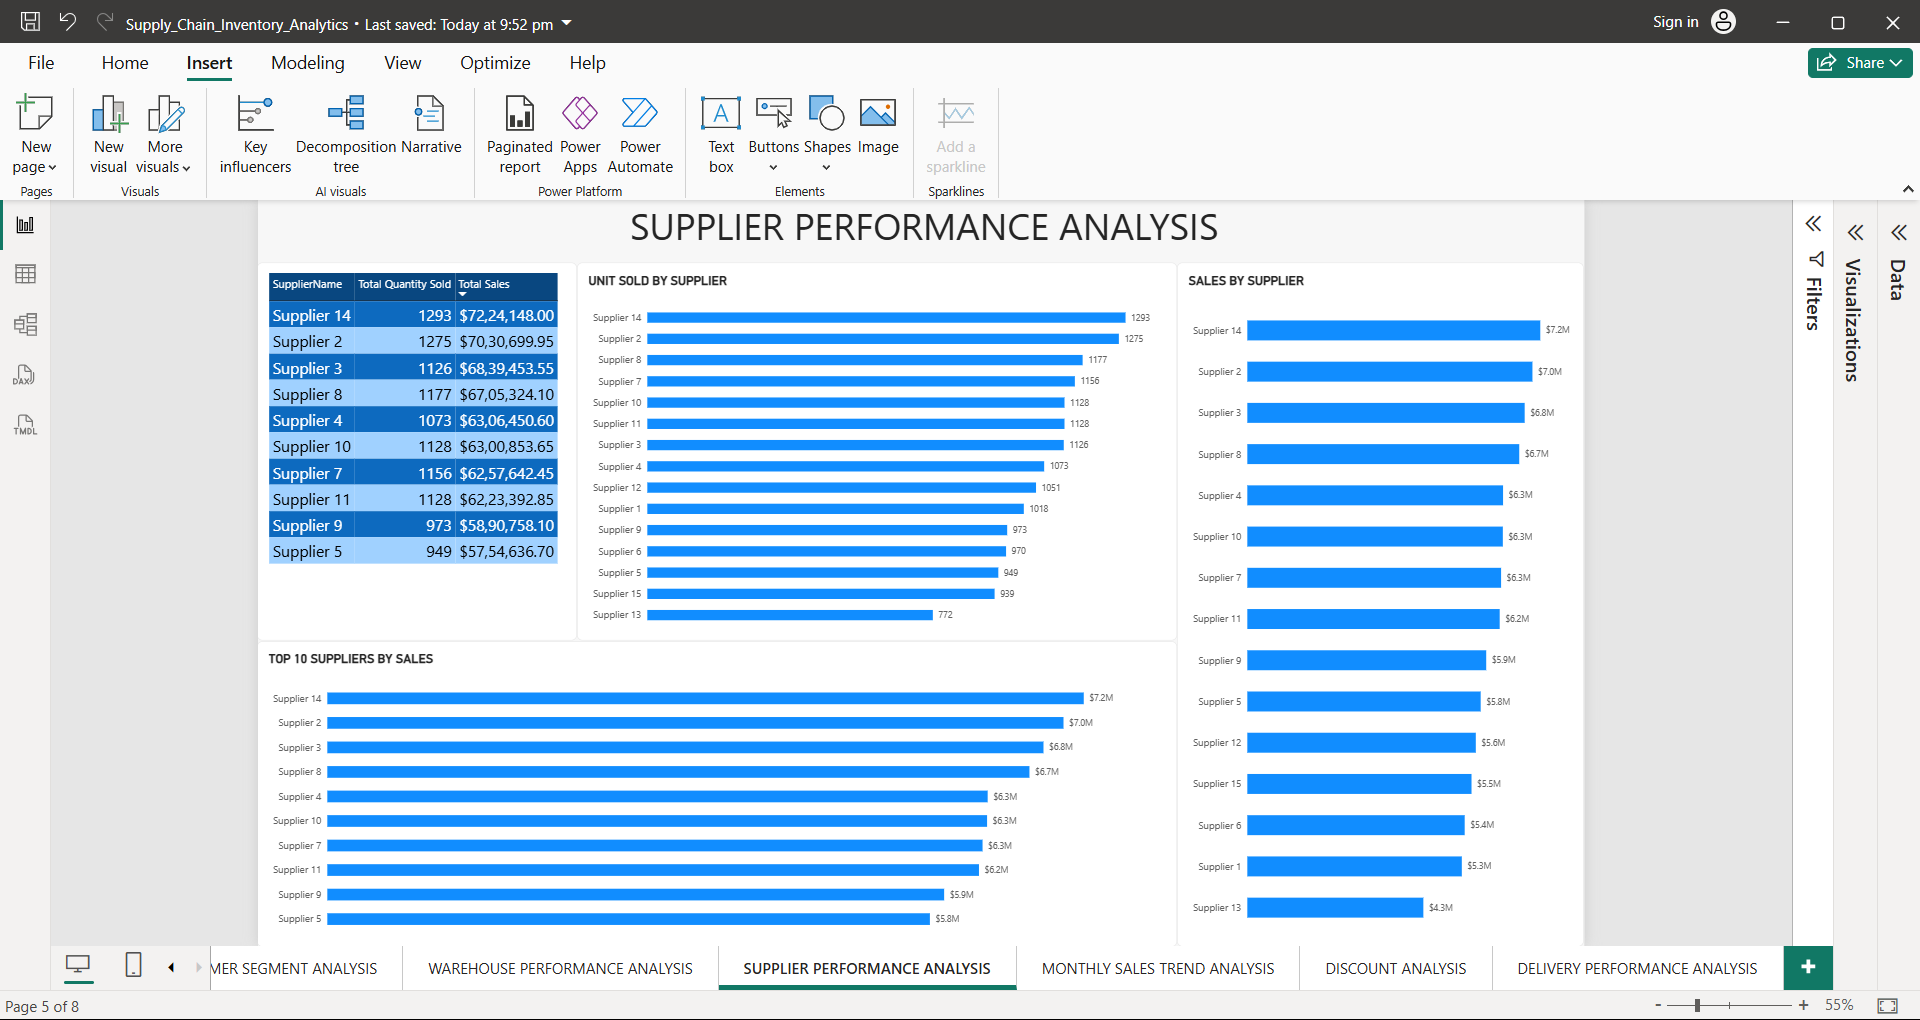

Layout of this report page (visuals, bound fields, positions):
{"tool":"powerbi","page":{"name":"SUPPLIER PERFORMANCE ANALYSIS","canvas":[1920,1080],"ordinal":4},"visuals":[{"type":"textbox","box":[10.3,0,1910.1,90.6],"z":0},{"type":"clusteredBarChart","title":"SALES BY SUPPLIER","fields":{"Category":["Supplier.SupplierName"],"Y":["Business Measures.Total Sales"]},"box":[1331.7,90.6,588.7,990.1],"z":1000},{"type":"clusteredBarChart","title":"UNIT SOLD BY SUPPLIER","fields":{"Category":["Supplier.SupplierName"],"Y":["Business Measures.Total Quantity Sold"]},"box":[463.1,90.6,868.6,547.5],"z":2000},{"type":"clusteredBarChart","title":"TOP 10 SUPPLIERS BY SALES","fields":{"Category":["Supplier.SupplierName"],"Y":["Business Measures.Total Sales"]},"box":[0,638.1,1331.7,442.5],"z":3000},{"type":"tableEx","fields":{"Values":["Supplier.SupplierName","Business Measures.Total Quantity Sold","Business Measures.Total Sales"]},"box":[0,90.6,463.1,547.5],"z":4000}]}

Visuals, with their boxes on the page's 1920x1080 design canvas (x1, y1, x2, y2). These are canvas units, not pixel positions in the 1920x1020 screenshot, which may show the page scaled, cropped or inside an application window:
textbox: (10,0,1920,91)
"SALES BY SUPPLIER" clusteredBarChart: (1332,91,1920,1081)
"UNIT SOLD BY SUPPLIER" clusteredBarChart: (463,91,1332,638)
"TOP 10 SUPPLIERS BY SALES" clusteredBarChart: (0,638,1332,1081)
tableEx - Supplier.SupplierName x Business Measures.Total Quantity Sold: (0,91,463,638)
